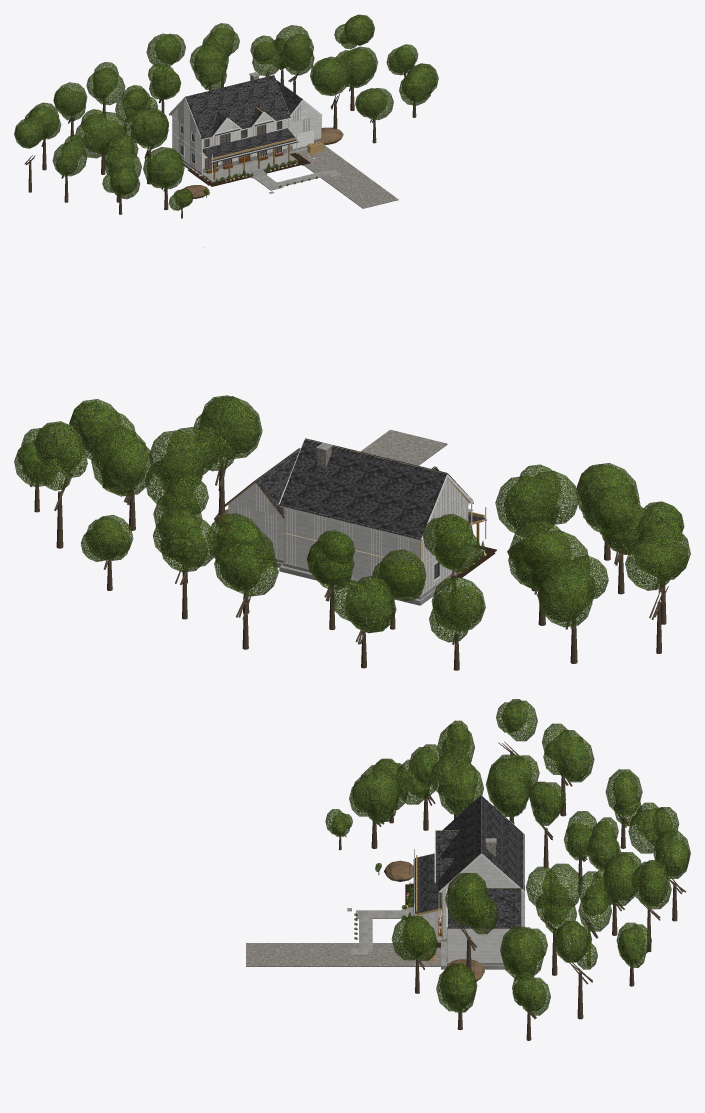
Rendered from house.glb.
The picture shows the model from 3 angles, top to bottom: view 1: azimuth 30°, elevation 25°; view 2: azimuth 150°, elevation 25°; view 3: azimuth 270°, elevation 25°; orthographic projection. The views are drawn at different scales.
Parts seen in each view (by area): view 1: dry|0400|slide||0000|dry_shingle_mfront|+0000,-0707,-0707, home|0190|fade||0000|home_drive|+0000,-1000,+0000, env|0000|none||0000|env_tree_4_leaf|+0000,-1000,+0000, env|0000|none||0000|env_tree_8_leaf|+0000,-1000,+0000, env|0000|none||0000|env_tree_0_leaf|+0000,-1000,+0000, env|0000|none||0000|env_tree_12_leaf|+0000,-1000,+0000, env|0000|none||0000|env_tree_1_leaf|+0000,-1000,+0000, env|0000|none||0000|env_tree_6_leaf|+0000,-1000,+0000, env|0000|none||0000|env_tree_16_leaf|+0000,-1000,+0000, env|0000|none||0000|env_tree_18_leaf|+0000,-1000,+0000, dry|0500|slide||0000|dry_shingle_porch|+0000,-0970,-0246, env|0000|none||0000|env_tree_5_leaf|+0000,-1000,+0000 (+26 smaller); view 2: dry|0420|slide||0000|dry_shingle_mback|+0000,+0707,-0707, env|0000|none||0000|env_tree_0_leaf|+0000,-1000,+0000, env|0000|none||0000|env_tree_14_leaf|+0000,-1000,+0000, env|0000|none||0000|env_tree_8_leaf|+0000,-1000,+0000, env|0000|none||0000|env_tree_4_leaf|+0000,-1000,+0000, env|0000|none||0000|env_tree_6_leaf|+0000,-1000,+0000, env|0000|none||0000|env_tree_9_leaf|+0000,-1000,+0000, env|0000|none||0000|env_tree_17_leaf|+0000,-1000,+0000, ext|0300|grow||0000|ext_sd_f2_back|+0000,-1000,+0000, env|0000|none||0000|env_tree_21_leaf|+0000,-1000,+0000, env|0000|none||0000|env_tree_19_leaf|+0000,-1000,+0000, env|0000|none||0000|env_tree_18_leaf|+0000,-1000,+0000 (+20 smaller); view 3: home|0190|fade||0000|home_drive|+0000,-1000,+0000, env|0000|none||0000|env_tree_8_leaf|+0000,-1000,+0000, env|0000|none||0000|env_tree_4_leaf|+0000,-1000,+0000, env|0000|none||0000|env_tree_0_leaf|+0000,-1000,+0000, dry|0420|slide||0000|dry_shingle_mback|+0000,+0707,-0707, env|0000|none||0000|env_tree_6_leaf|+0000,-1000,+0000, env|0000|none||0000|env_tree_14_leaf|+0000,-1000,+0000, env|0000|none||0000|env_tree_1_leaf|+0000,-1000,+0000, dry|0400|slide||0000|dry_shingle_mfront|+0000,-0707,-0707, env|0000|none||0000|env_tree_9_leaf|+0000,-1000,+0000, env|0000|none||0000|env_tree_5_leaf|+0000,-1000,+0000, env|0000|none||0000|env_tree_18_leaf|+0000,-1000,+0000 (+20 smaller).
Boxes of the visible parts, box(x1,y1,x2,y2) form: dry|0400|slide||0000|dry_shingle_mfront|+0000,-0707,-0707: box(185, 75, 289, 137); home|0190|fade||0000|home_drive|+0000,-1000,+0000: box(297, 146, 398, 208); env|0000|none||0000|env_tree_4_leaf|+0000,-1000,+0000: box(75, 109, 126, 158); env|0000|none||0000|env_tree_8_leaf|+0000,-1000,+0000: box(274, 25, 314, 75); env|0000|none||0000|env_tree_0_leaf|+0000,-1000,+0000: box(123, 108, 168, 149); env|0000|none||0000|env_tree_12_leaf|+0000,-1000,+0000: box(189, 43, 228, 90); env|0000|none||0000|env_tree_1_leaf|+0000,-1000,+0000: box(143, 147, 184, 189); env|0000|none||0000|env_tree_6_leaf|+0000,-1000,+0000: box(310, 56, 350, 95); env|0000|none||0000|env_tree_16_leaf|+0000,-1000,+0000: box(399, 63, 438, 105); env|0000|none||0000|env_tree_18_leaf|+0000,-1000,+0000: box(86, 62, 125, 105); dry|0500|slide||0000|dry_shingle_porch|+0000,-0970,-0246: box(202, 128, 297, 160); env|0000|none||0000|env_tree_5_leaf|+0000,-1000,+0000: box(103, 134, 141, 177); dry|0420|slide||0000|dry_shingle_mback|+0000,+0707,-0707: box(279, 439, 446, 539); env|0000|none||0000|env_tree_0_leaf|+0000,-1000,+0000: box(495, 464, 579, 536); env|0000|none||0000|env_tree_14_leaf|+0000,-1000,+0000: box(537, 555, 608, 627); env|0000|none||0000|env_tree_8_leaf|+0000,-1000,+0000: box(145, 427, 216, 504); env|0000|none||0000|env_tree_4_leaf|+0000,-1000,+0000: box(508, 520, 590, 591); env|0000|none||0000|env_tree_6_leaf|+0000,-1000,+0000: box(194, 396, 262, 471); env|0000|none||0000|env_tree_9_leaf|+0000,-1000,+0000: box(91, 426, 152, 496); env|0000|none||0000|env_tree_17_leaf|+0000,-1000,+0000: box(153, 508, 218, 572); ext|0300|grow||0000|ext_sd_f2_back|+0000,-1000,+0000: box(284, 508, 419, 564); env|0000|none||0000|env_tree_21_leaf|+0000,-1000,+0000: box(429, 577, 485, 642); env|0000|none||0000|env_tree_19_leaf|+0000,-1000,+0000: box(214, 541, 278, 596); env|0000|none||0000|env_tree_18_leaf|+0000,-1000,+0000: box(331, 575, 396, 633); home|0190|fade||0000|home_drive|+0000,-1000,+0000: box(246, 943, 440, 966); env|0000|none||0000|env_tree_8_leaf|+0000,-1000,+0000: box(526, 863, 581, 935); env|0000|none||0000|env_tree_4_leaf|+0000,-1000,+0000: box(485, 754, 539, 816); env|0000|none||0000|env_tree_0_leaf|+0000,-1000,+0000: box(430, 749, 483, 814); dry|0420|slide||0000|dry_shingle_mback|+0000,+0707,-0707: box(481, 796, 524, 890); env|0000|none||0000|env_tree_6_leaf|+0000,-1000,+0000: box(445, 873, 498, 934); env|0000|none||0000|env_tree_14_leaf|+0000,-1000,+0000: box(542, 723, 594, 782); env|0000|none||0000|env_tree_1_leaf|+0000,-1000,+0000: box(349, 765, 400, 823); dry|0400|slide||0000|dry_shingle_mfront|+0000,-0707,-0707: box(438, 795, 481, 891); env|0000|none||0000|env_tree_9_leaf|+0000,-1000,+0000: box(500, 926, 547, 979); env|0000|none||0000|env_tree_5_leaf|+0000,-1000,+0000: box(396, 744, 443, 804); env|0000|none||0000|env_tree_18_leaf|+0000,-1000,+0000: box(628, 802, 679, 853).
Size of the model in its own units: 86.52 by 15.08 by 78.91.
Materials: 31 (17 with a texture image).
